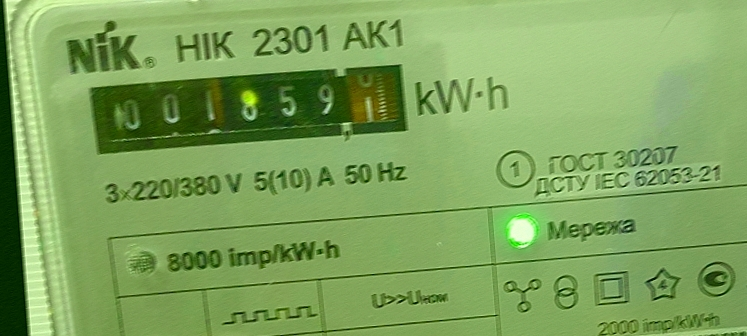0: (119, 98, 141, 135), (158, 93, 180, 127)
1: (202, 89, 215, 125), (360, 95, 375, 126)
5: (275, 84, 297, 121)
8: (236, 89, 259, 125)
9: (314, 83, 335, 119)
screen: (76, 53, 417, 168)
